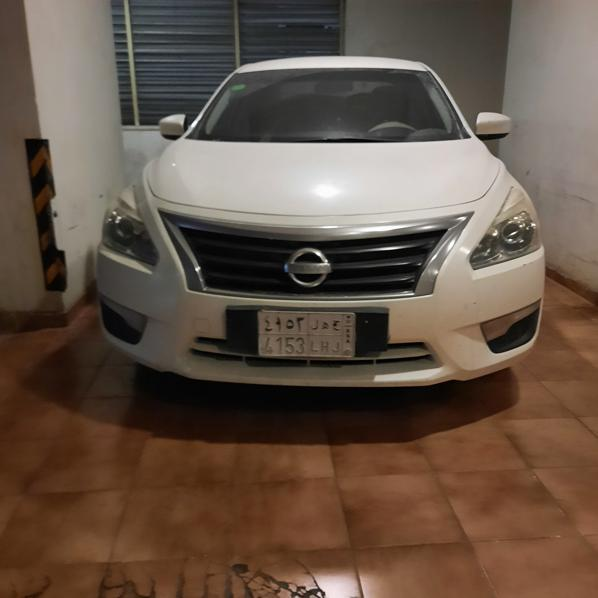numberplate: (257, 309, 355, 359)
